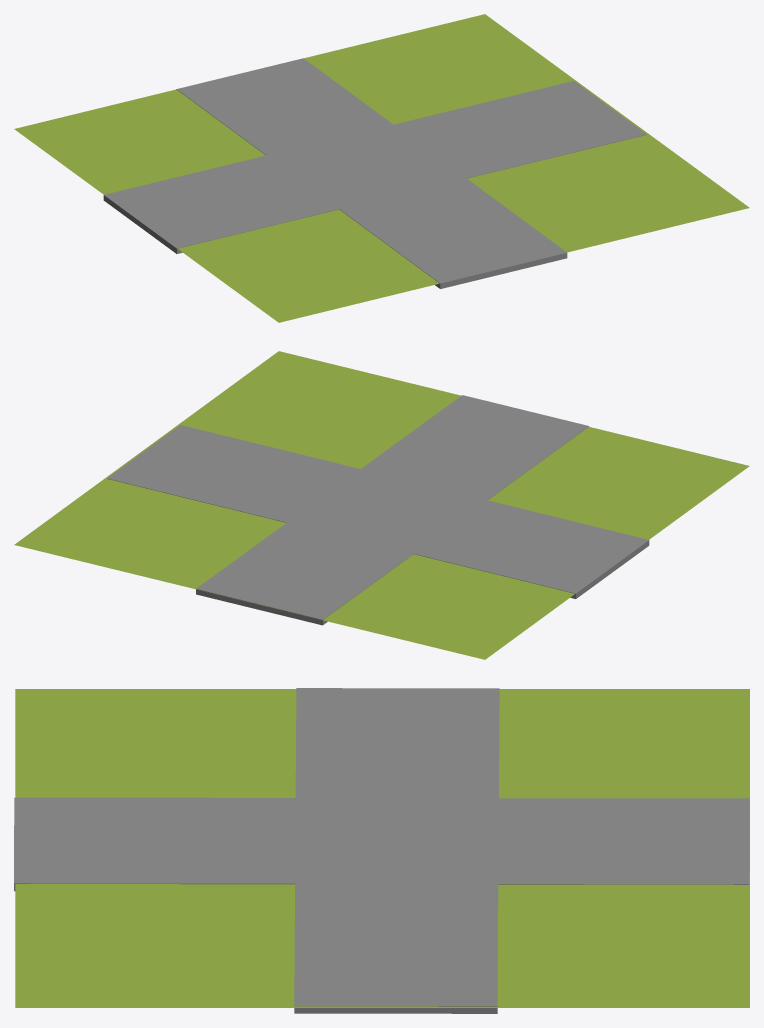
The model's file is street.gltf.
3 views of the same model, one above another, from view 1: azimuth 30°, elevation 25°; view 2: azimuth 150°, elevation 25°; view 3: azimuth 270°, elevation 25° (orthographic). The views are drawn at different scales.
Visible parts, largest first — view 1: street, street2, street1; view 2: street, street1, street2; view 3: street, street2, street1.
Boxes of the visible parts, box(x1,y1,x2,y2) form: street: box(14, 14, 749, 322); street2: box(103, 81, 647, 253); street1: box(176, 58, 567, 288); street: box(14, 351, 749, 659); street1: box(196, 395, 589, 625); street2: box(107, 425, 649, 598); street: box(15, 689, 749, 1007); street2: box(294, 688, 499, 1013); street1: box(14, 797, 749, 891).
Size of the model in its own units: 96.86 by 1.11 by 94.37.
